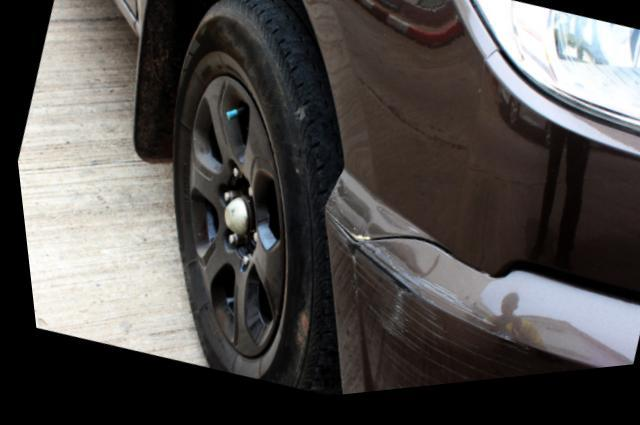scratch: (333, 246, 520, 397)
